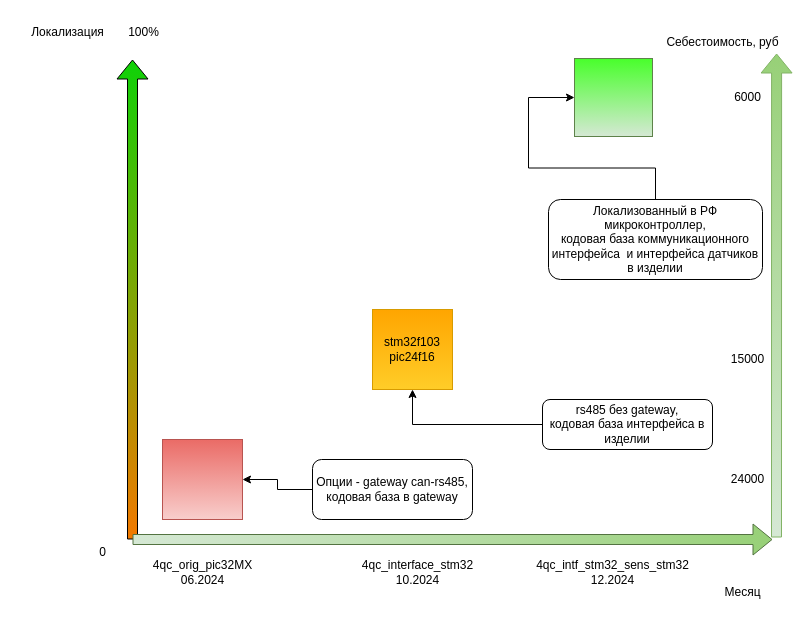
Some shapes in this 810 by 624 pixel diagram are drawn without their labels. The centre of each missing label's shape, as x and y in pixels:
"MIK32 stm32f103" belongs at [613,97].
"pic32mx575 pic24f16" belongs at [202,479].
